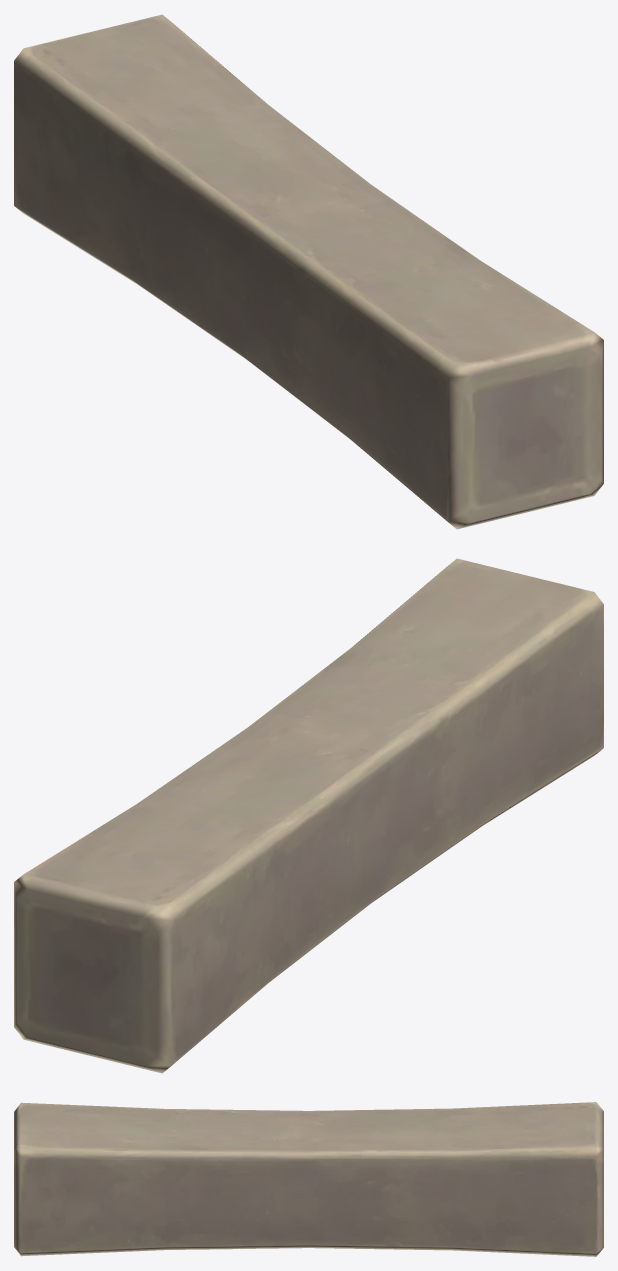
3 renders of one model, top to bottom at view 1: azimuth 30°, elevation 25°; view 2: azimuth 150°, elevation 25°; view 3: azimuth 270°, elevation 25°, orthographic. The views are drawn at different scales.
Bounding box in the file's own units: 1.06 × 1.06 × 5.17.
1 material, 1 textured.
